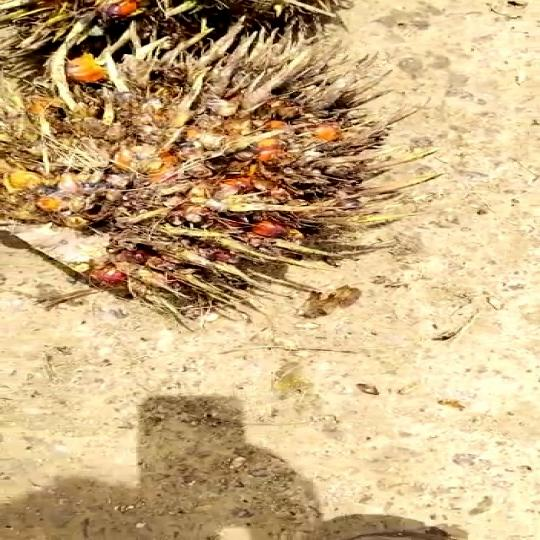terlalu masak: (0, 39, 400, 330)
